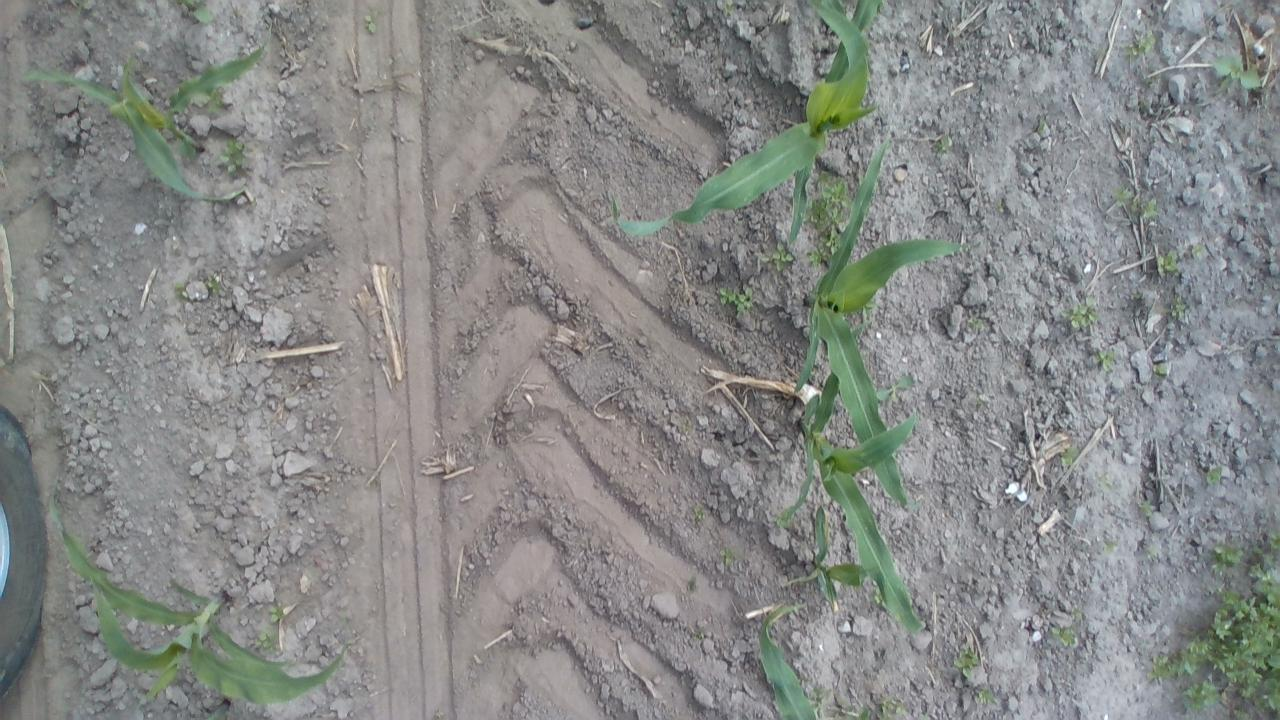Maize: (42, 476, 348, 714), (796, 138, 984, 516), (609, 0, 885, 240), (773, 326, 931, 637), (13, 38, 270, 212), (749, 600, 824, 720), (782, 507, 862, 612)
Weeds: (1150, 527, 1280, 720), (803, 172, 859, 234), (1207, 49, 1265, 93), (1108, 184, 1165, 222), (846, 698, 936, 720), (714, 284, 764, 322), (1054, 295, 1104, 333), (1049, 602, 1089, 648), (805, 229, 849, 266), (1200, 540, 1242, 576), (1117, 26, 1158, 62), (216, 138, 251, 178), (948, 640, 982, 678), (178, 0, 219, 27), (758, 242, 794, 271), (968, 678, 999, 706), (249, 629, 278, 657), (1154, 248, 1180, 278), (1167, 292, 1191, 323), (1028, 112, 1052, 139), (931, 126, 954, 154), (1148, 359, 1172, 385), (1202, 462, 1224, 490), (1096, 344, 1118, 372), (268, 603, 292, 627), (360, 12, 386, 32), (964, 309, 988, 330), (714, 548, 739, 568), (206, 269, 226, 294), (1058, 444, 1078, 468), (1190, 239, 1209, 264), (172, 274, 195, 294), (716, 0, 741, 18), (1138, 498, 1155, 520), (1100, 538, 1120, 556), (690, 507, 709, 524)
